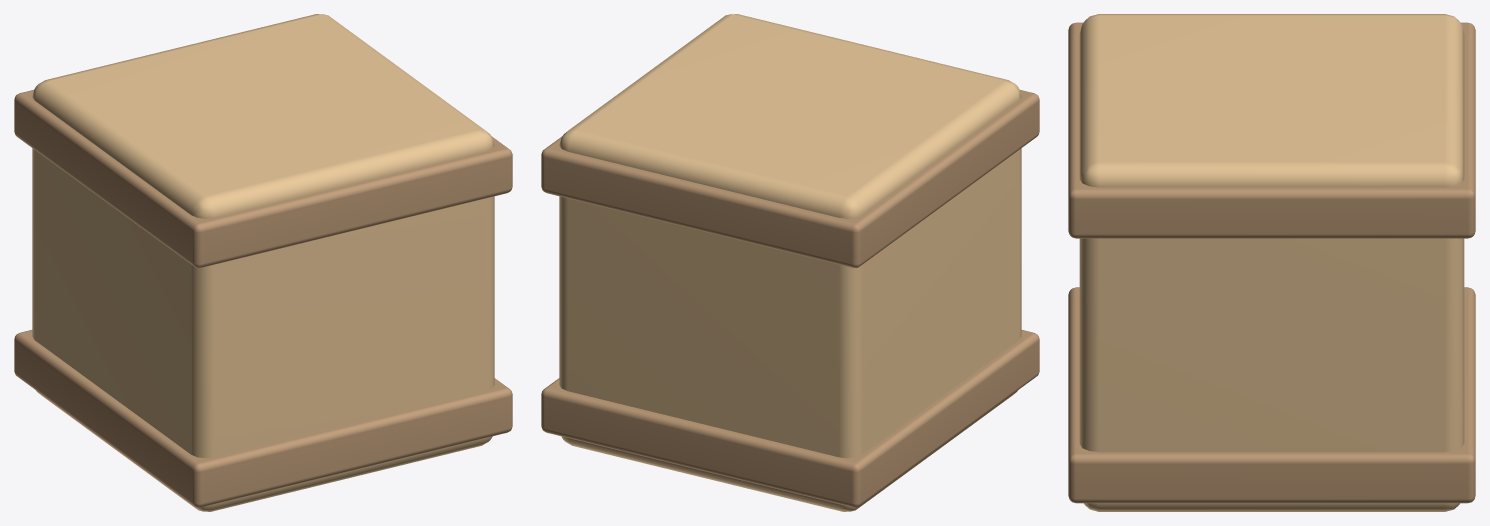
Rendered from Crate.fbx.
The picture shows the model from 3 angles, left to right: view 1: azimuth 30°, elevation 25°; view 2: azimuth 150°, elevation 25°; view 3: azimuth 270°, elevation 25°; orthographic projection. The views are drawn at different scales.
Parts seen in each view (by area): view 1: Crate; view 2: Crate; view 3: Crate.
Part boxes in pixels (x1,y1,x2,y2): Crate: [14, 14, 512, 511]; Crate: [541, 14, 1039, 511]; Crate: [1068, 14, 1475, 511].
Size of the model in its own units: 1.06 by 1 by 1.06.
